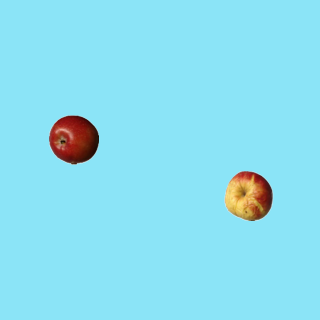Apple Braeburn: (48, 114, 98, 164)
Apple Red Yellow 1: (223, 170, 273, 220)
